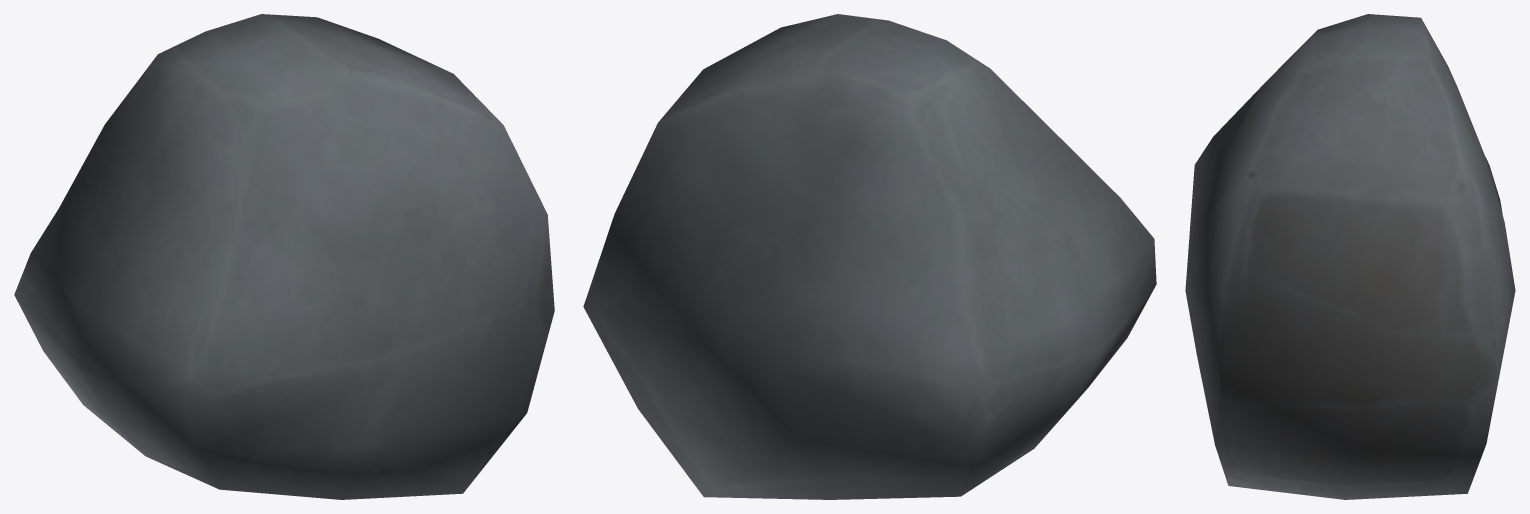
The model's file is SM_Rock_01.glb.
The picture shows the model from 3 angles, left to right: view 1: azimuth 30°, elevation 25°; view 2: azimuth 150°, elevation 25°; view 3: azimuth 270°, elevation 25°; orthographic projection. The views are drawn at different scales.
Parts seen in each view (by area): view 1: SM_Rock_01; view 2: SM_Rock_01; view 3: SM_Rock_01.
Boxes of the visible parts, x1=… form: SM_Rock_01: x1=14, y1=14, x2=554, y2=499; SM_Rock_01: x1=583, y1=14, x2=1156, y2=499; SM_Rock_01: x1=1185, y1=14, x2=1515, y2=499.
Bounding box in the file's own units: 0.5925 × 0.5778 × 0.4285.
1 material, 1 textured.
